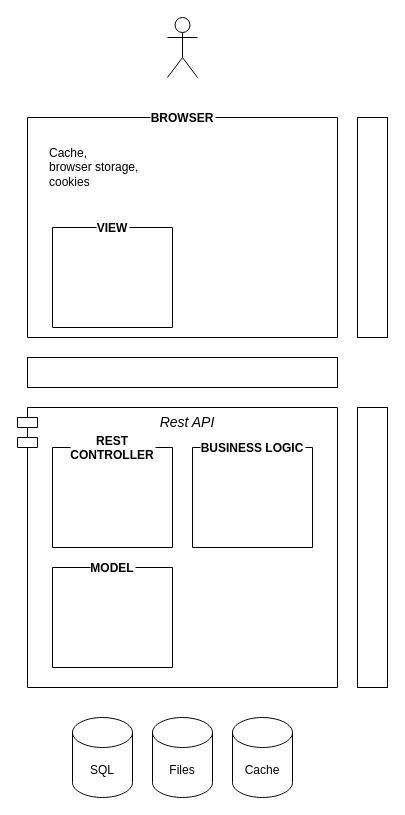
This 405x815 diagram has some shape labels left out. The box of each missing label's shape, as (x1, y1, x2, y2) in pixels:
Admin: (166, 16, 198, 78)
JSON HTTP Request: (26, 356, 338, 388)
Vue: (356, 116, 388, 338)
Yii: (356, 406, 388, 688)
